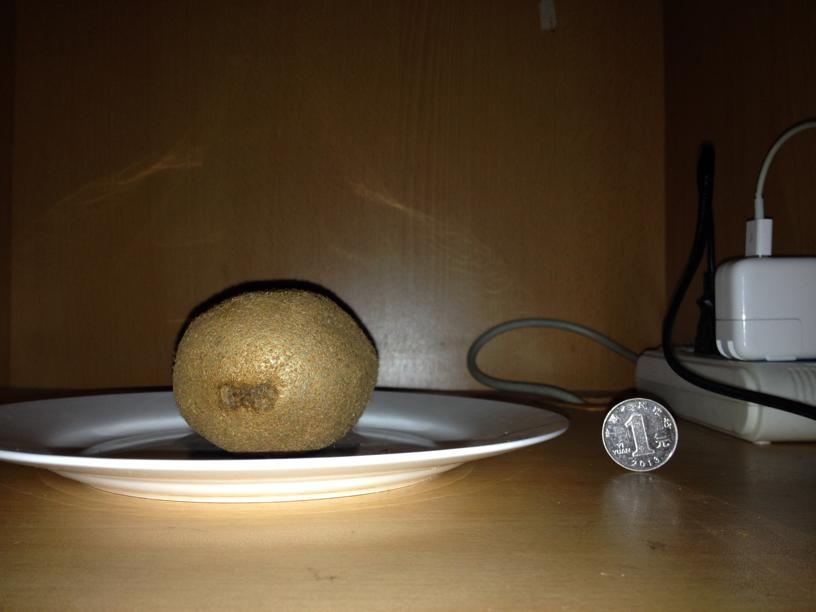coin: (600, 398, 678, 472)
qiwi: (176, 291, 379, 450)
